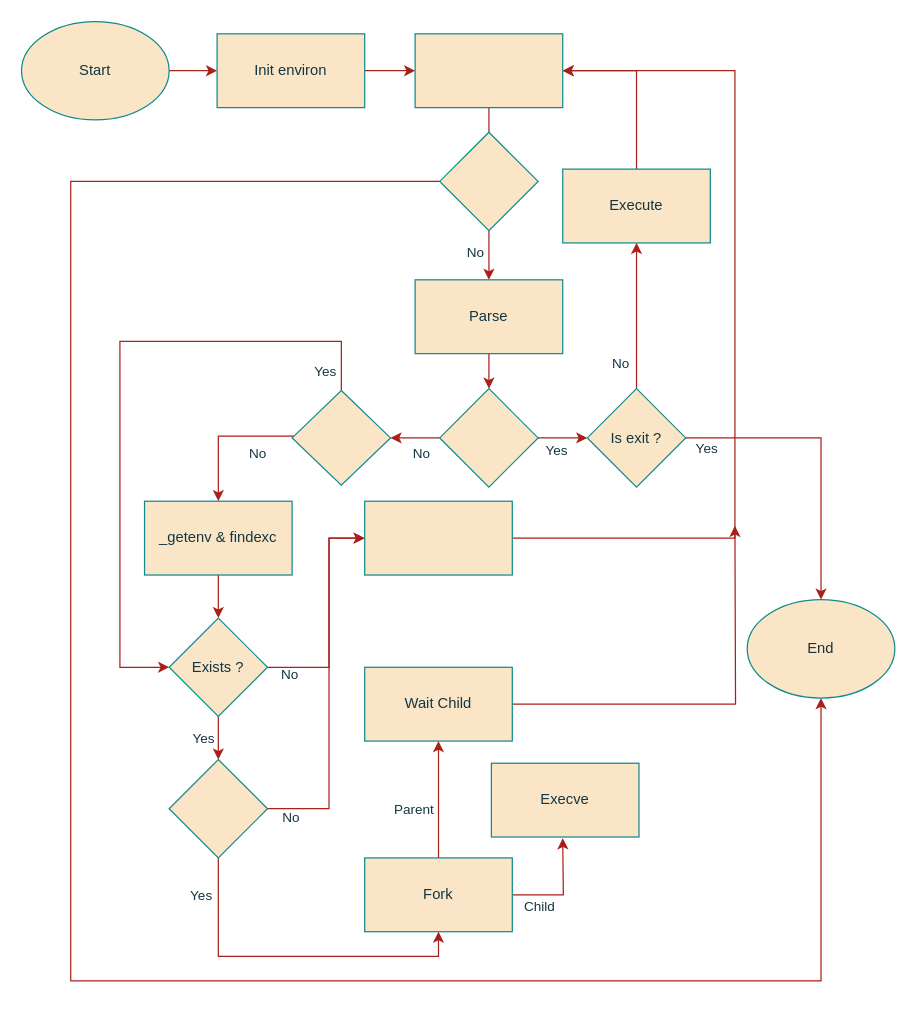
Some shapes in this 916 by 1012 pixel diagram are drawn without their labels. The centre of each missing label's shape, as x and y in pixels:
"EOF ?" belongs at pixel 488 181.
"Error" belongs at pixel 437 537.
"Getline" belongs at pixel 488 70.
"Is Absolut path ?" belongs at pixel 341 437.
"Is Built-in ?" belongs at pixel 488 437.
"Perms ?" belongs at pixel 218 808.
